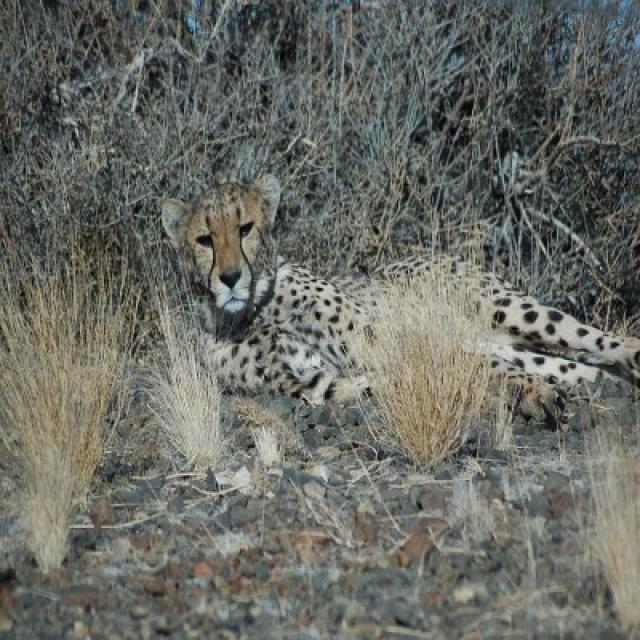Cheetah: (162, 176, 638, 424)
